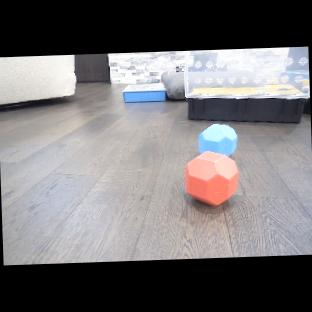V5_BLUE: (183, 151, 241, 209), (198, 122, 238, 153)
